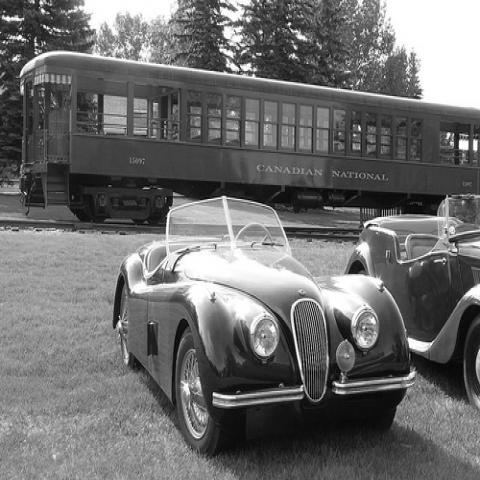car: (108, 196, 415, 458), (337, 193, 479, 414)
